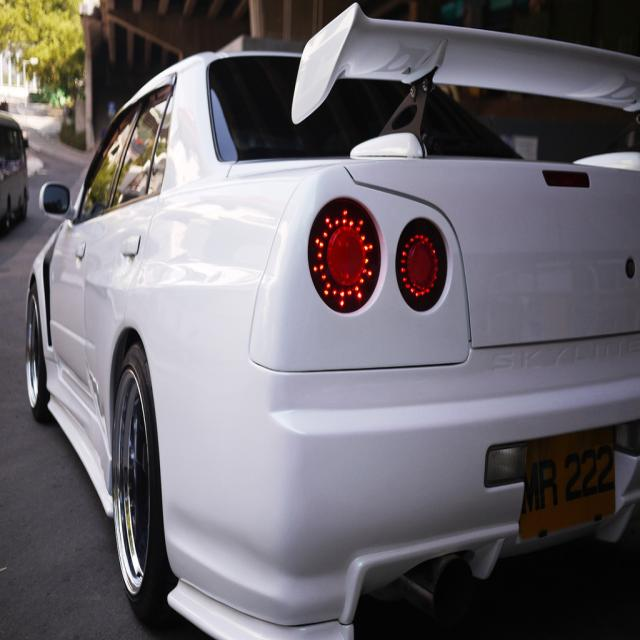car: (33, 24, 629, 635), (0, 108, 32, 233)
